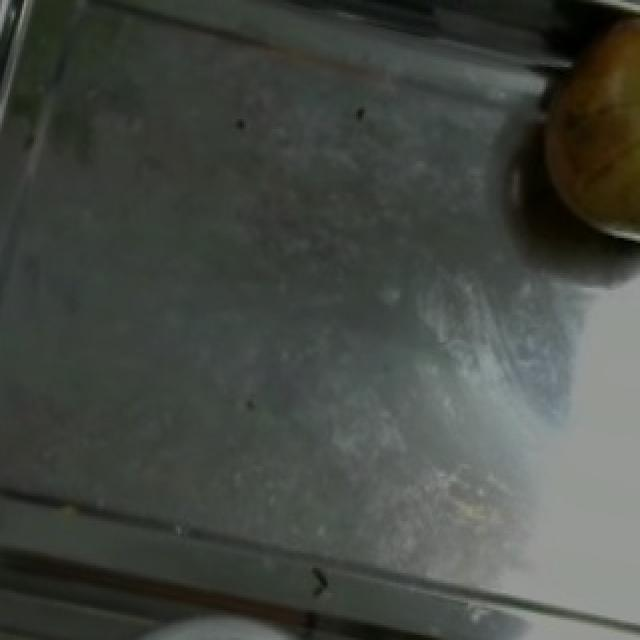fruit: (520, 5, 640, 251)
